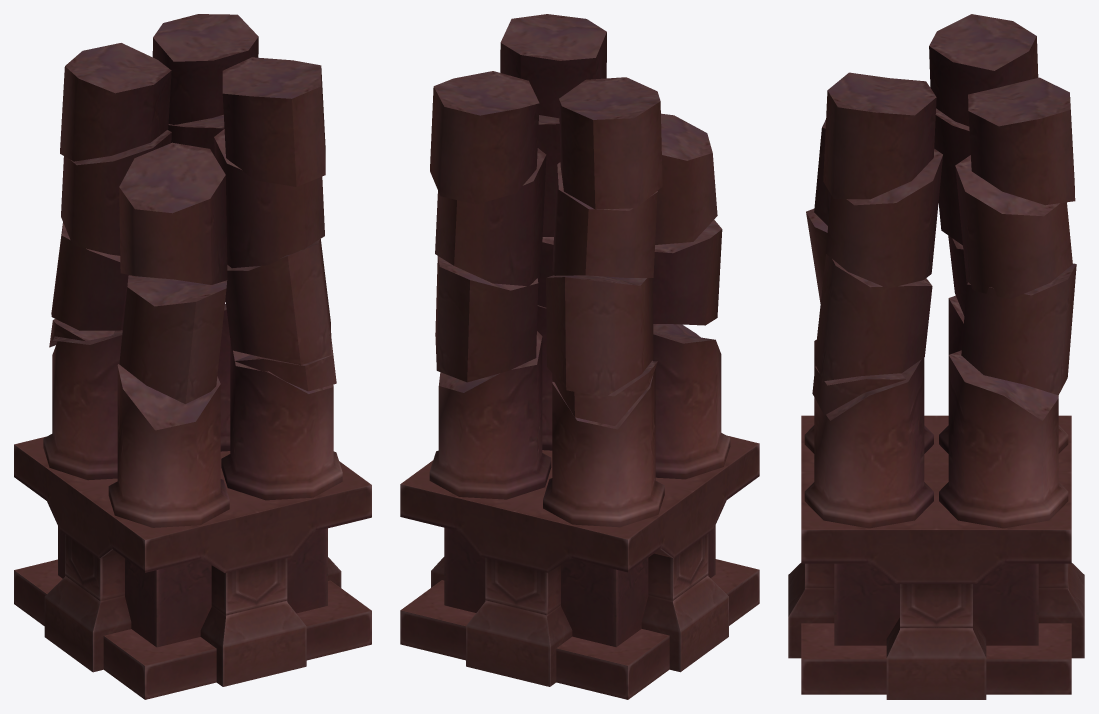
The model's file is Dungeons_03_02_14.FBX.
3 views of the same model, side by side, from view 1: azimuth 30°, elevation 25°; view 2: azimuth 150°, elevation 25°; view 3: azimuth 270°, elevation 25° (orthographic). The views are drawn at different scales.
Parts seen in each view (by area): view 1: Object340; view 2: Object340; view 3: Object340.
Part boxes in pixels (x1,y1,x2,y2): Object340: (14, 14, 371, 699); Object340: (400, 14, 759, 699); Object340: (788, 14, 1084, 699).
Bounding box in the file's own units: 30.99 × 66.35 × 30.99.
